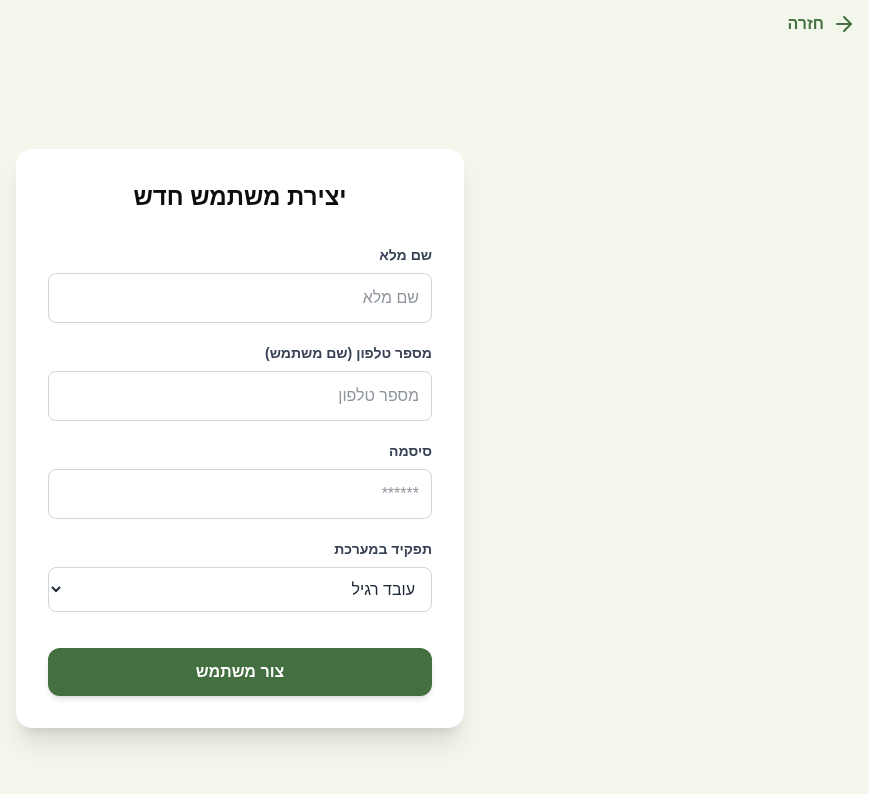
CreateUserPage › submits form successfully
The image size is (869, 794).
Type "Yoav Test" into the field with placeholder "שם מלא" at point(240, 298), box [48,272,432,322]
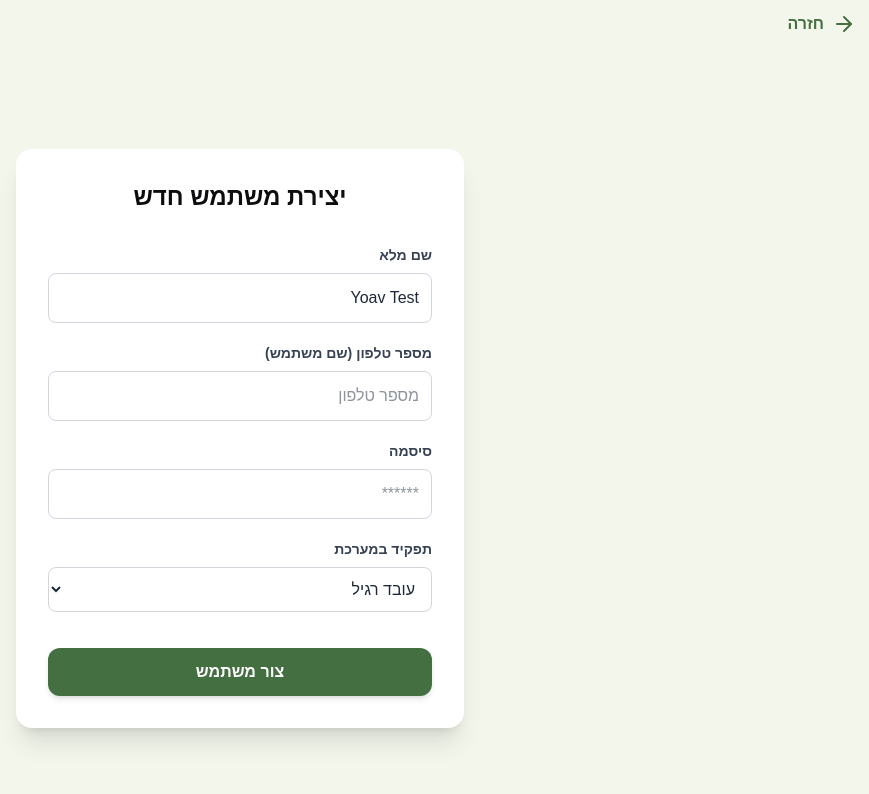
Type "0509999999" into the field with placeholder "מספר טלפון" at point(240, 396), box [48,370,432,420]
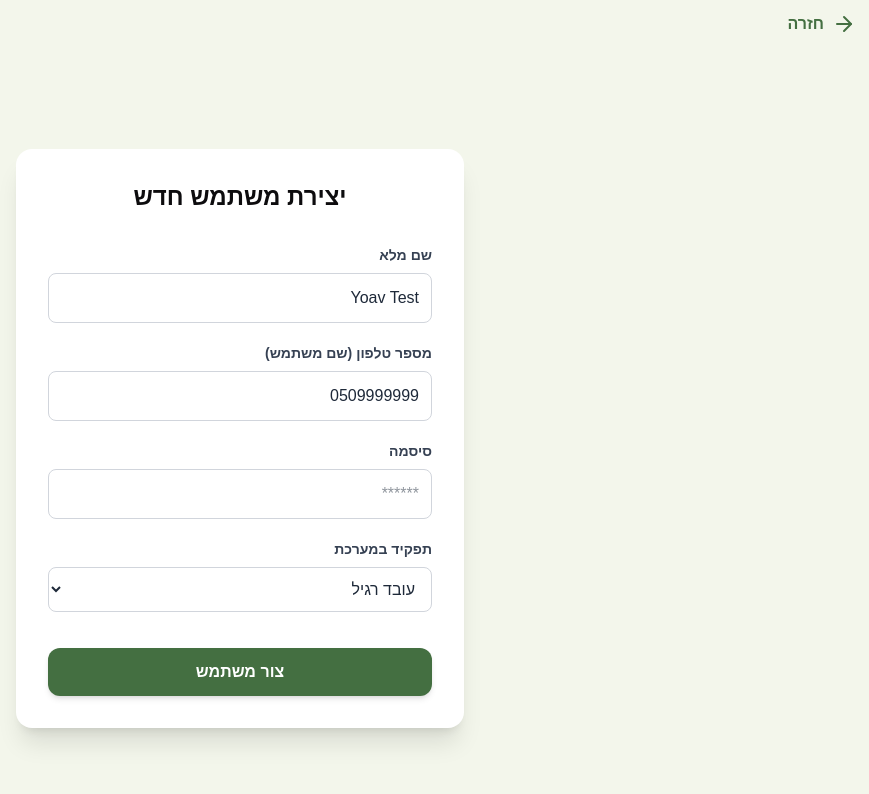
Type "pass" into the password field with placeholder "******" at point(240, 494), box [48,468,432,518]
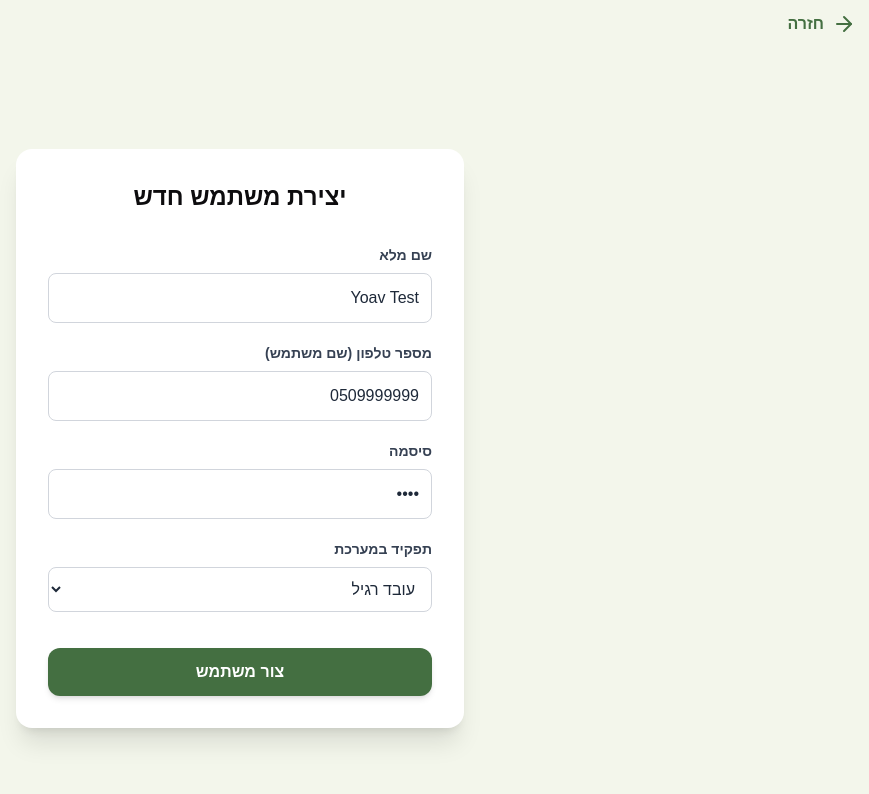
Submit the form, box [48,244,432,696]
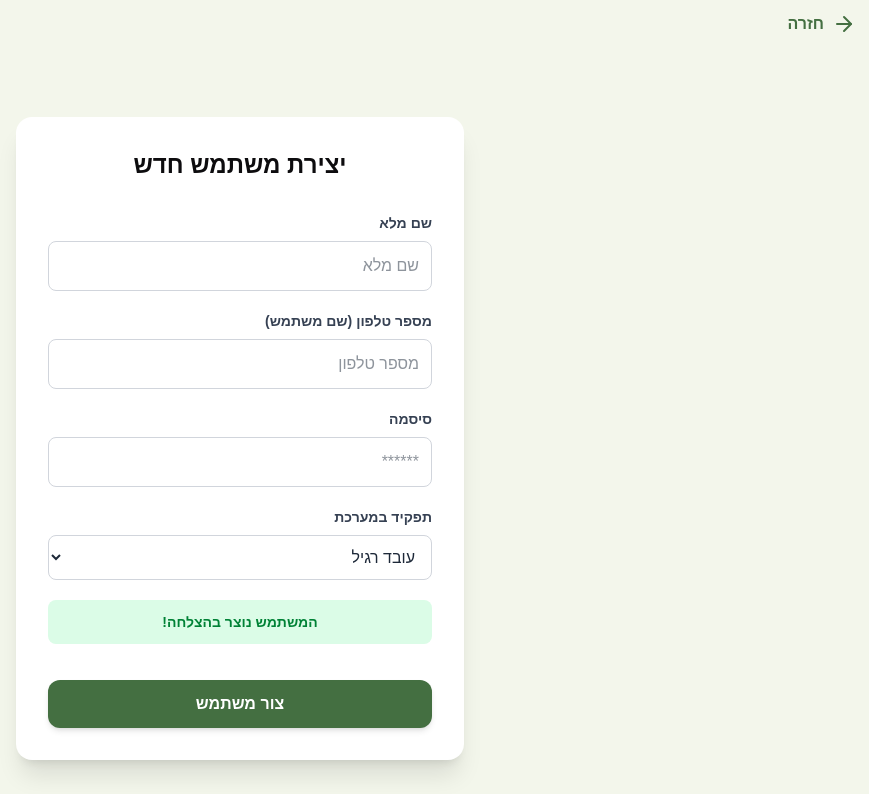
Check: the text "המשתמש נוצר בהצלחה!" is shown, box [48,600,432,644]
